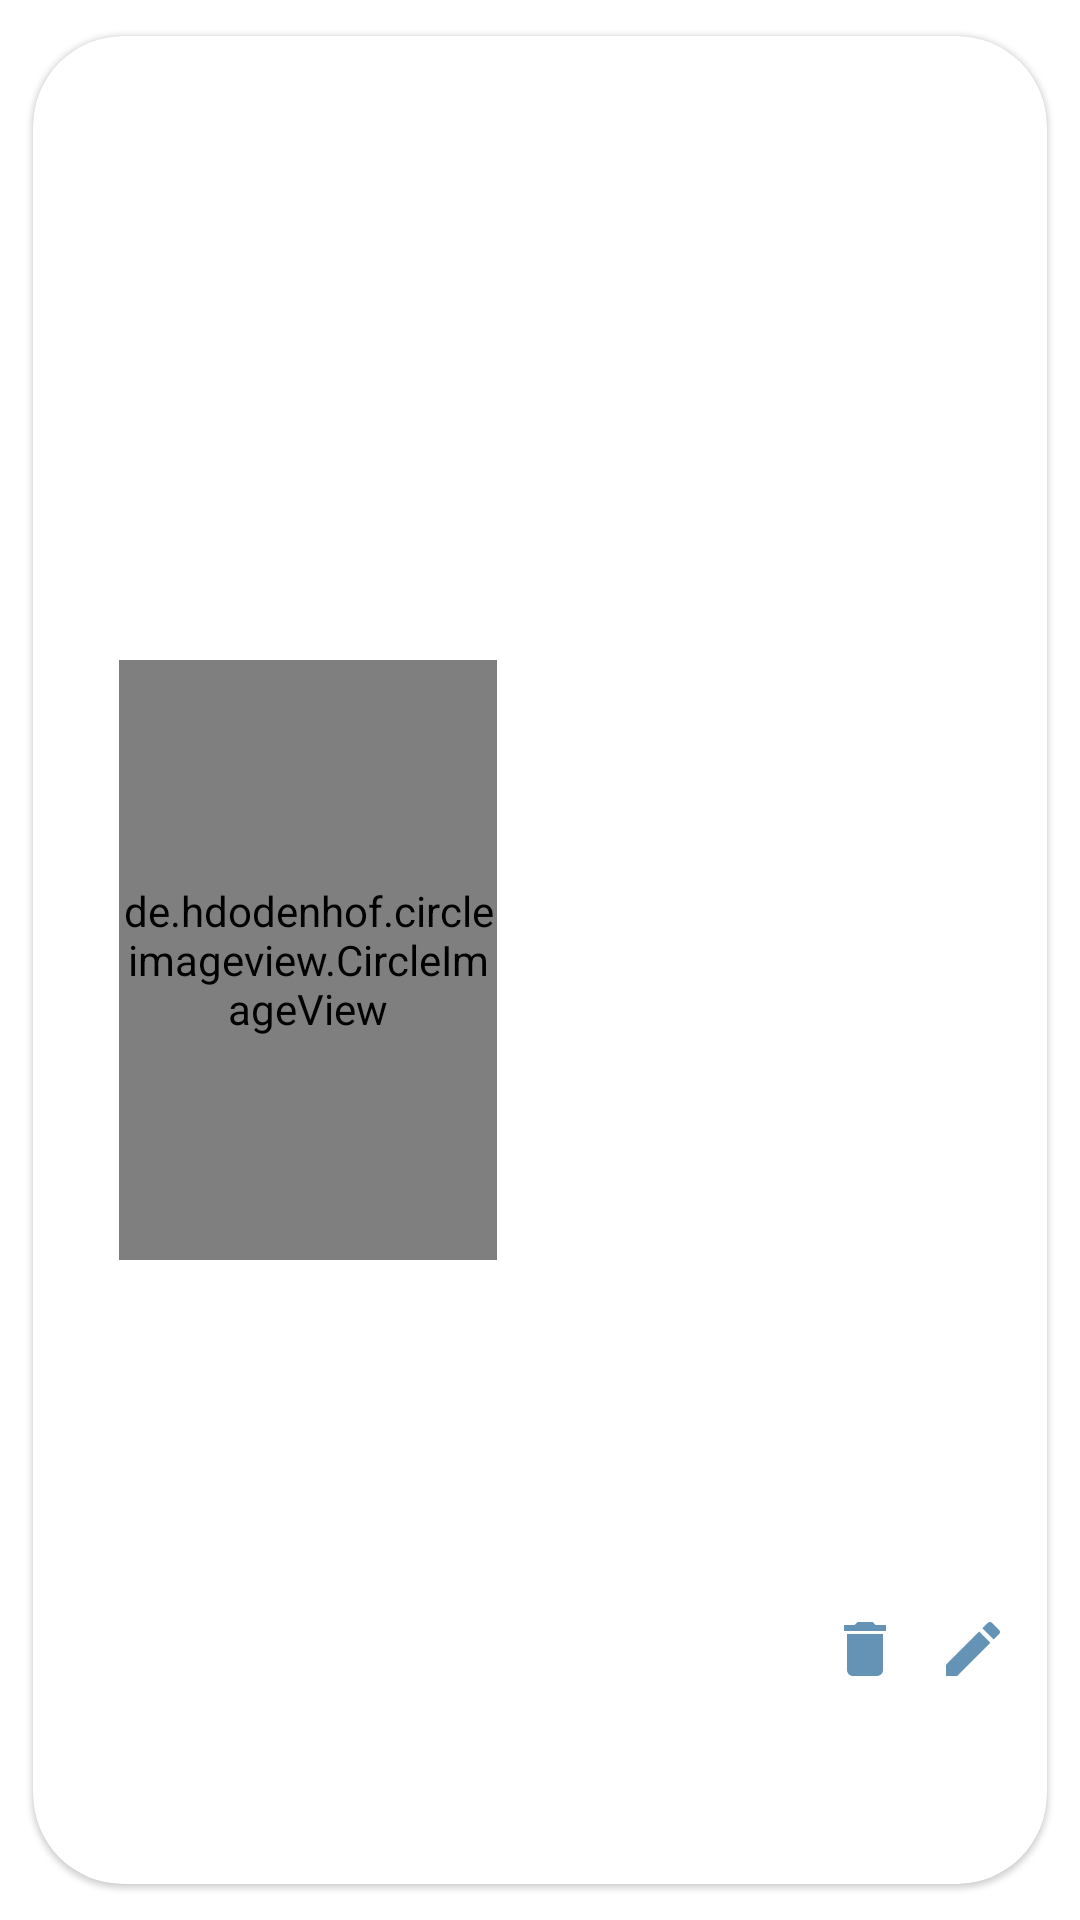

Point at icon controls on the screen. Image size 1080px x 1920px, points as [x,y].
delete: [865,1649]
edit: [973,1649]
